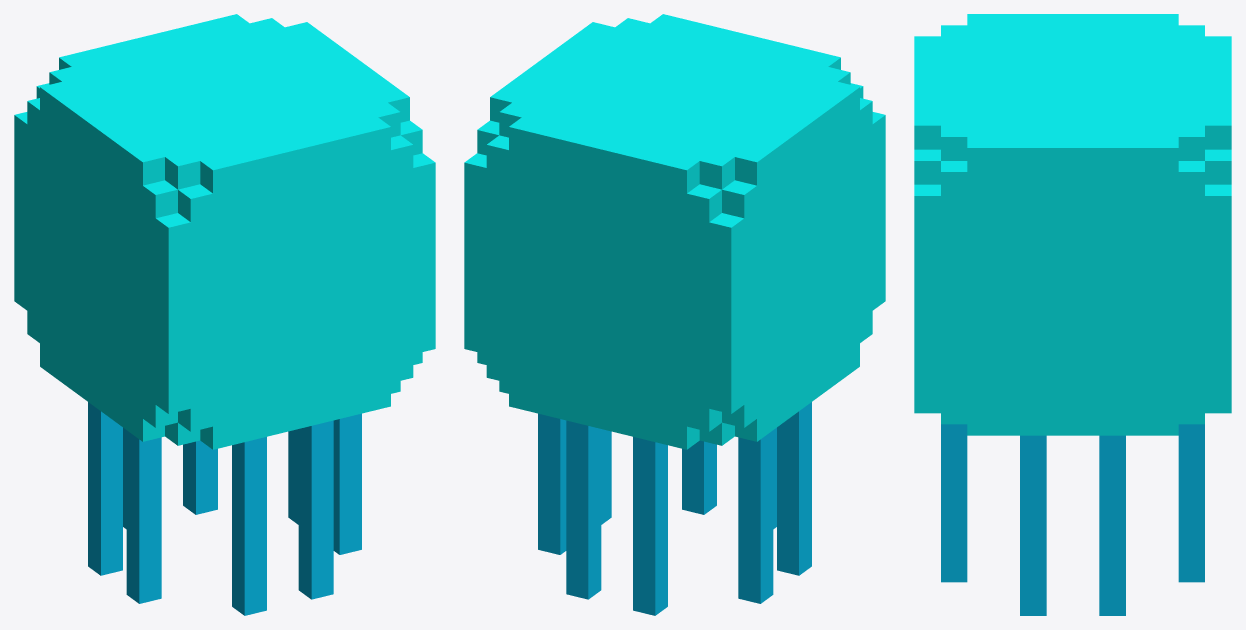
Rendered from Idle0.obj.
3 renders of one model, left to right at view 1: azimuth 30°, elevation 25°; view 2: azimuth 150°, elevation 25°; view 3: azimuth 270°, elevation 25°, orthographic. The views are drawn at different scales.
Bounding box in the file's own units: 1.2 × 2 × 1.2.
